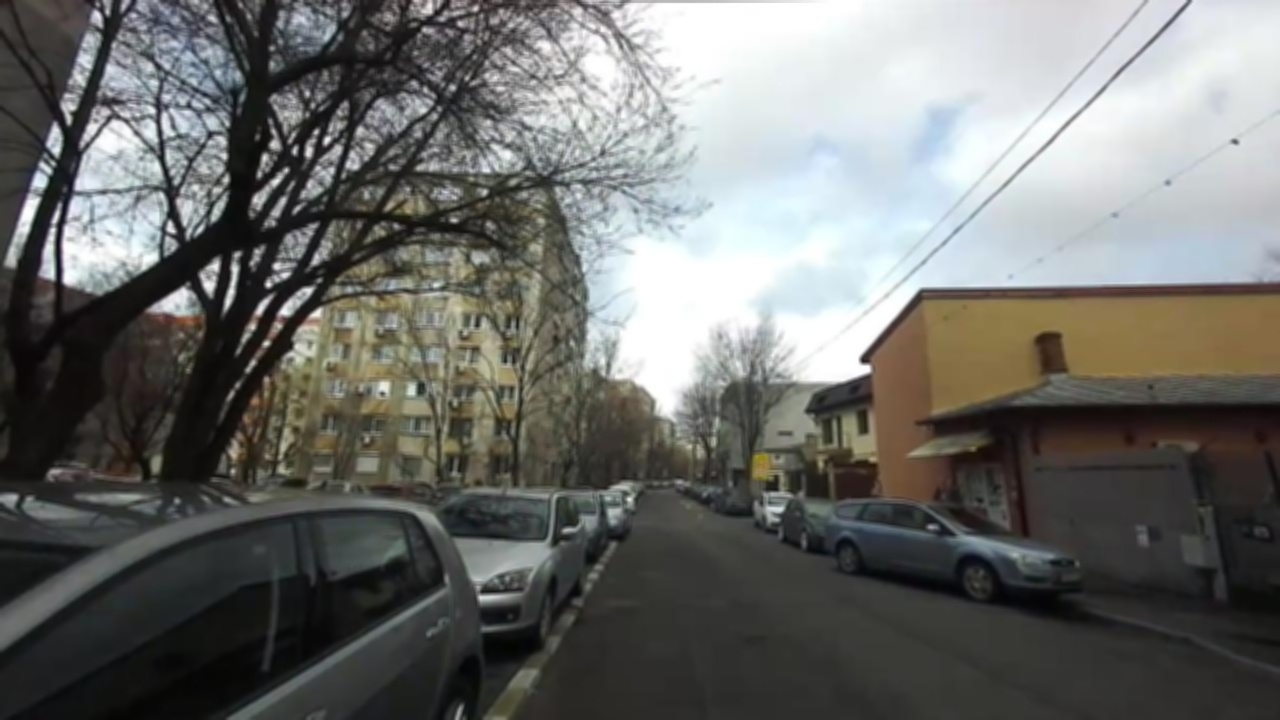pothole: (738, 625, 773, 650)
